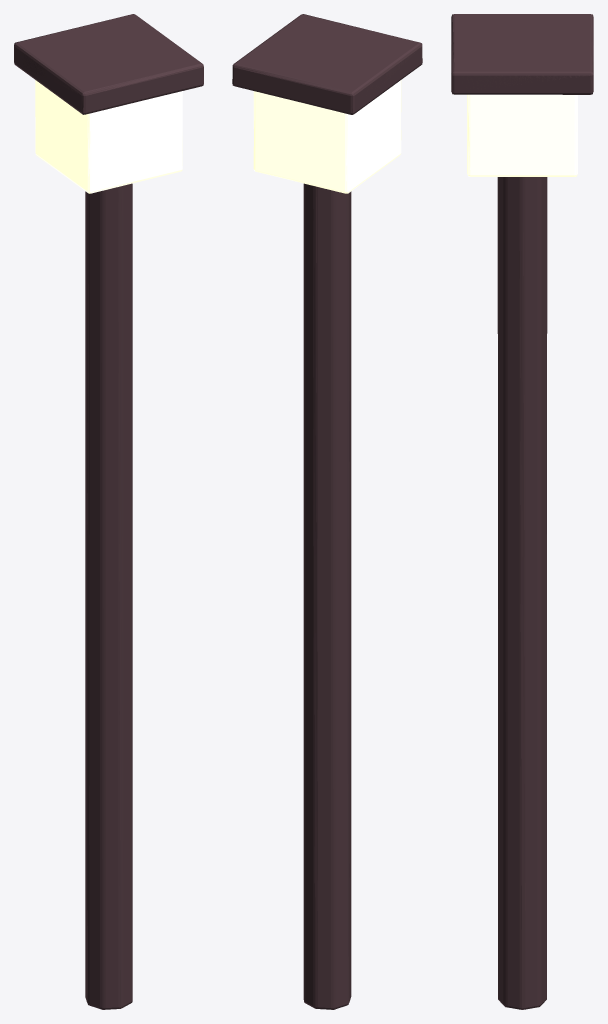
File: SM_Schlachthof_Lamp.fbx
3 views of the same model, side by side, from view 1: azimuth 30°, elevation 25°; view 2: azimuth 150°, elevation 25°; view 3: azimuth 270°, elevation 25° (orthographic).
Visible parts, largest first — view 1: LOD0_SM_Schlachthof_Lamp, LOD1_SM_Schlachthof_Lamp, LOD2_SM_Schlachthof_Lamp; view 2: LOD0_SM_Schlachthof_Lamp, LOD1_SM_Schlachthof_Lamp, LOD2_SM_Schlachthof_Lamp; view 3: LOD0_SM_Schlachthof_Lamp, LOD1_SM_Schlachthof_Lamp, LOD2_SM_Schlachthof_Lamp.
Part boxes in pixels (box(x1,y1,x2,y2)): LOD0_SM_Schlachthof_Lamp: box(14, 14, 203, 1009); LOD1_SM_Schlachthof_Lamp: box(14, 14, 203, 1009); LOD2_SM_Schlachthof_Lamp: box(14, 25, 203, 1008); LOD0_SM_Schlachthof_Lamp: box(232, 14, 422, 1009); LOD1_SM_Schlachthof_Lamp: box(232, 22, 422, 1009); LOD2_SM_Schlachthof_Lamp: box(233, 14, 422, 1009); LOD0_SM_Schlachthof_Lamp: box(451, 14, 593, 1009); LOD1_SM_Schlachthof_Lamp: box(451, 14, 593, 1009); LOD2_SM_Schlachthof_Lamp: box(452, 14, 592, 1009).
Bounding box in the file's own units: 0.45 × 3.34 × 0.45.
